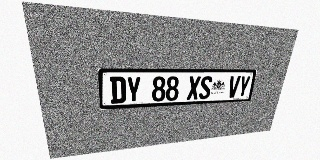8: (165, 76, 180, 101), (152, 76, 166, 102)
D: (110, 77, 126, 104)
S: (198, 76, 213, 99)
V: (227, 76, 241, 98)
X: (186, 76, 201, 100)
Y: (126, 76, 141, 103), (237, 76, 251, 97)
